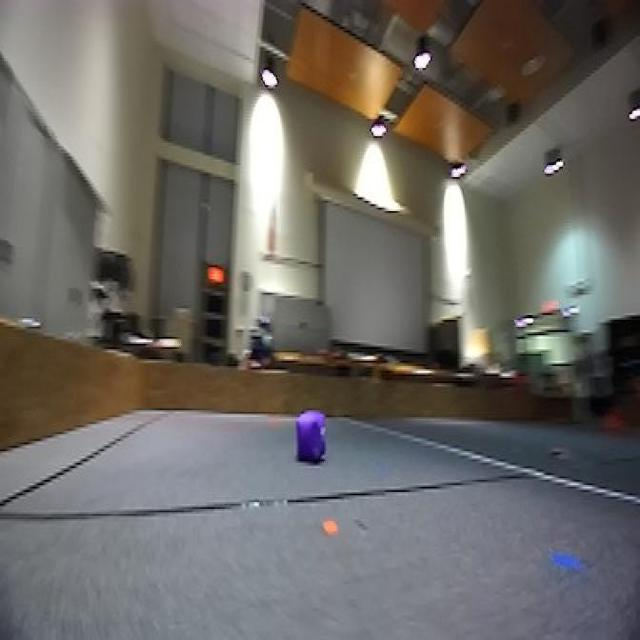frc_cube: (295, 411, 329, 466)
